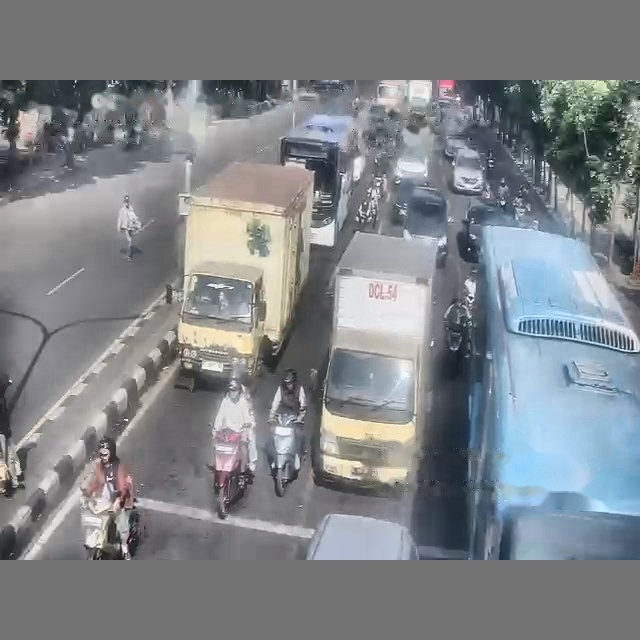Bis: (467, 226, 639, 558), (279, 114, 358, 246)
Mobil: (306, 513, 419, 560), (460, 201, 523, 262), (403, 185, 449, 268), (392, 175, 431, 224), (451, 147, 485, 194), (393, 148, 428, 185), (444, 133, 467, 159), (297, 89, 319, 101)
Motor: (208, 429, 249, 519), (269, 412, 301, 496), (80, 497, 123, 559), (445, 320, 470, 377)
Truk: (310, 232, 436, 488), (176, 162, 313, 390), (375, 80, 407, 114), (407, 80, 432, 118)
